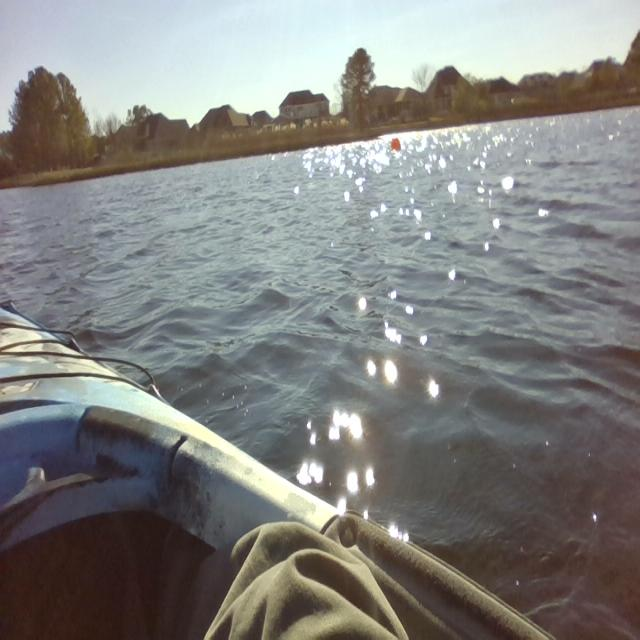Buoy: (387, 132, 408, 160)
